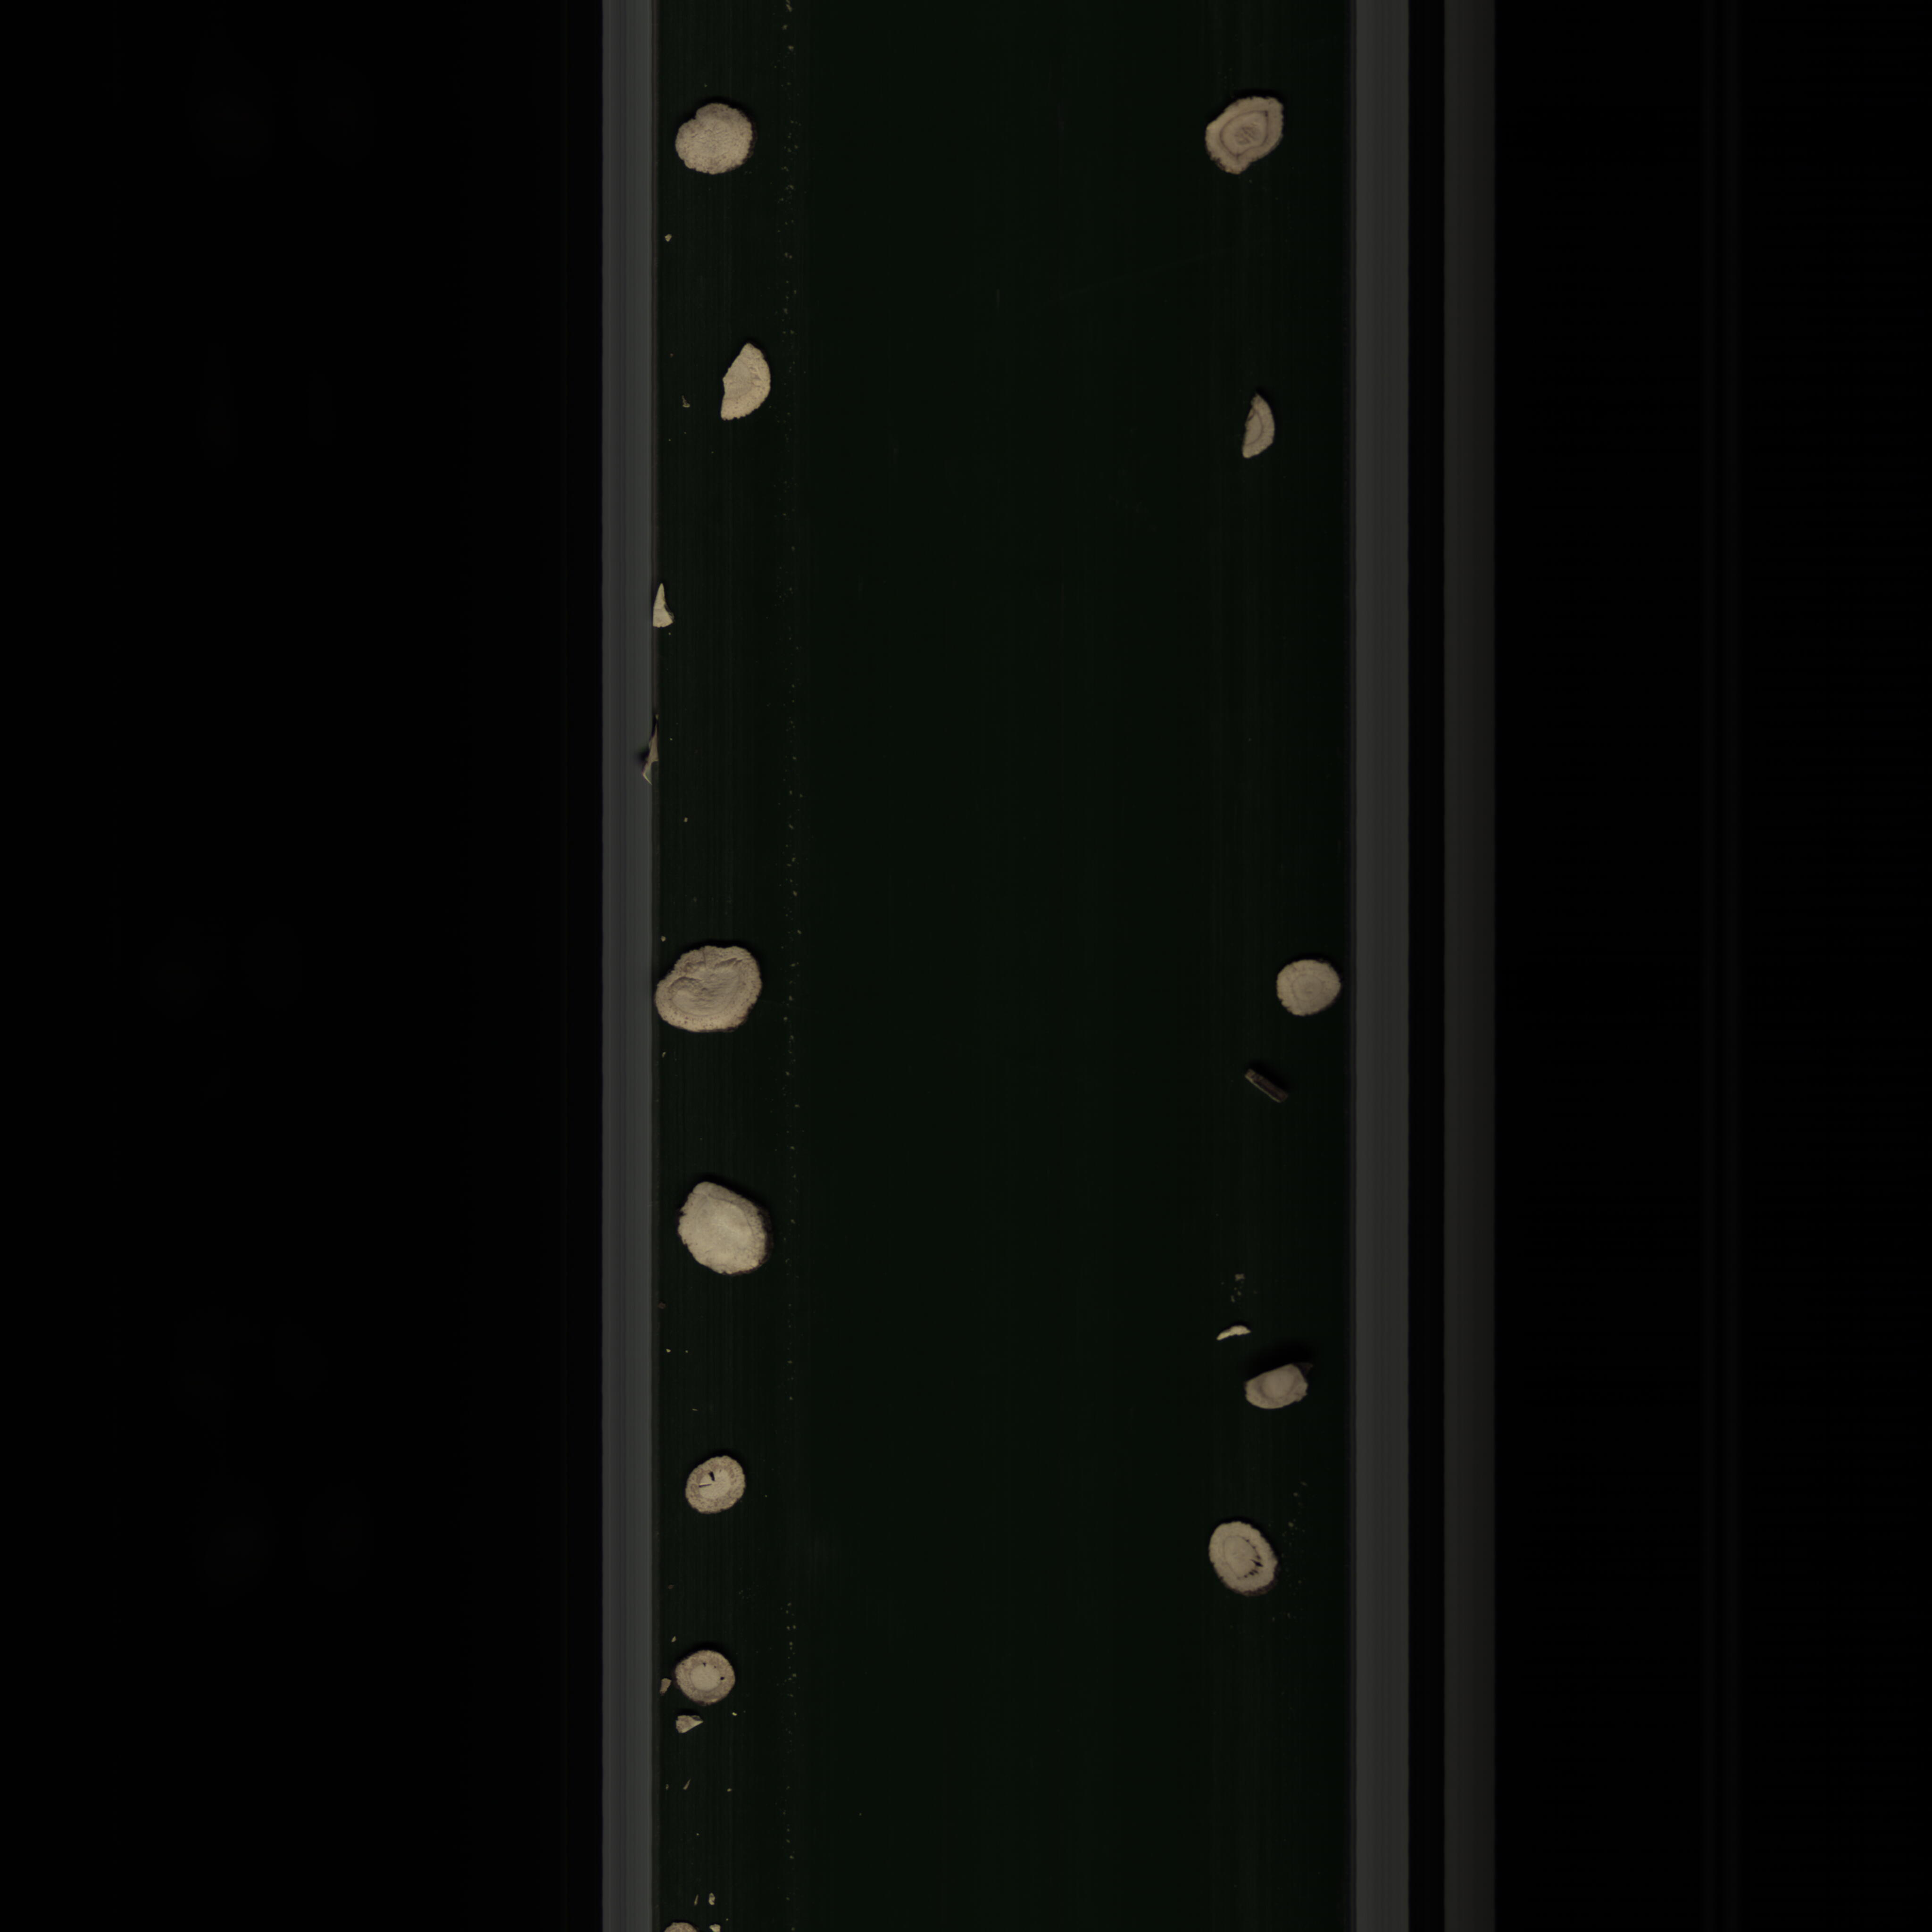debris: (715, 334, 787, 428), (1237, 1359, 1329, 1422), (1233, 386, 1290, 472)
hole: (669, 1447, 773, 1532), (1200, 1514, 1295, 1603)
moldy: (1194, 88, 1299, 186)
